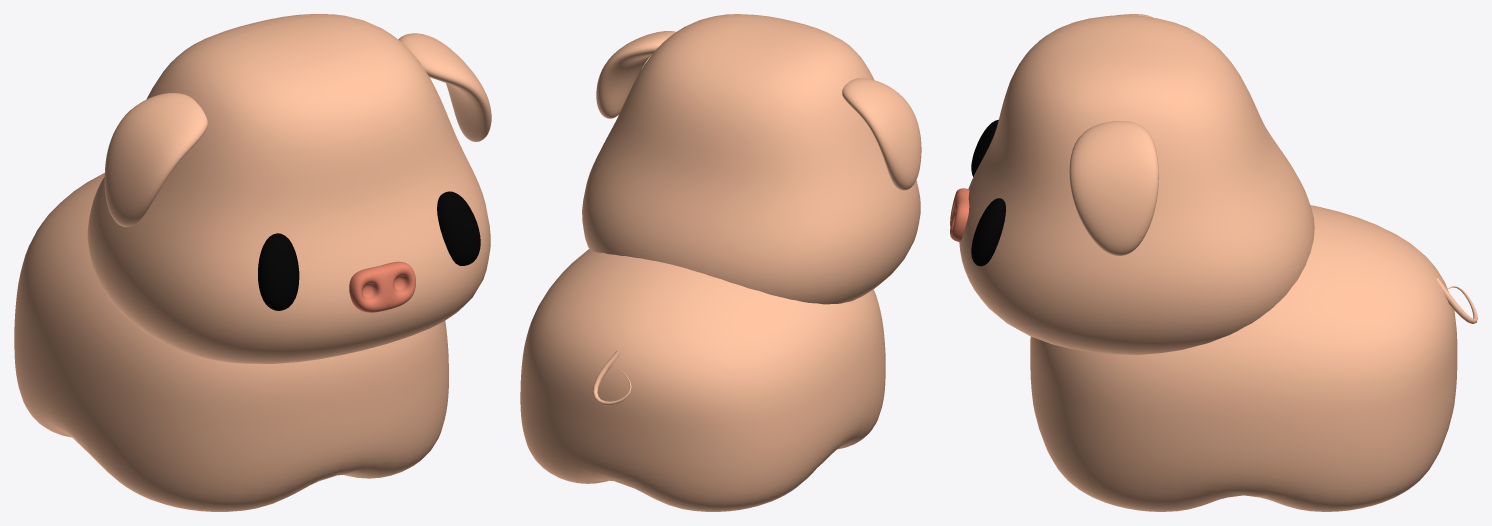
Rendered from Pig.fbx.
3 views of the same model, side by side, from view 1: azimuth 30°, elevation 25°; view 2: azimuth 150°, elevation 25°; view 3: azimuth 270°, elevation 25° (orthographic). The views are drawn at different scales.
Visible parts, largest first — view 1: pig_tail; view 2: pig_tail; view 3: pig_tail.
Boxes of the visible parts, x1=… form: pig_tail: x1=14, y1=14, x2=491, y2=511; pig_tail: x1=520, y1=14, x2=921, y2=511; pig_tail: x1=950, y1=14, x2=1477, y2=511.
Size of the model in its own units: 227 by 261 by 301.
